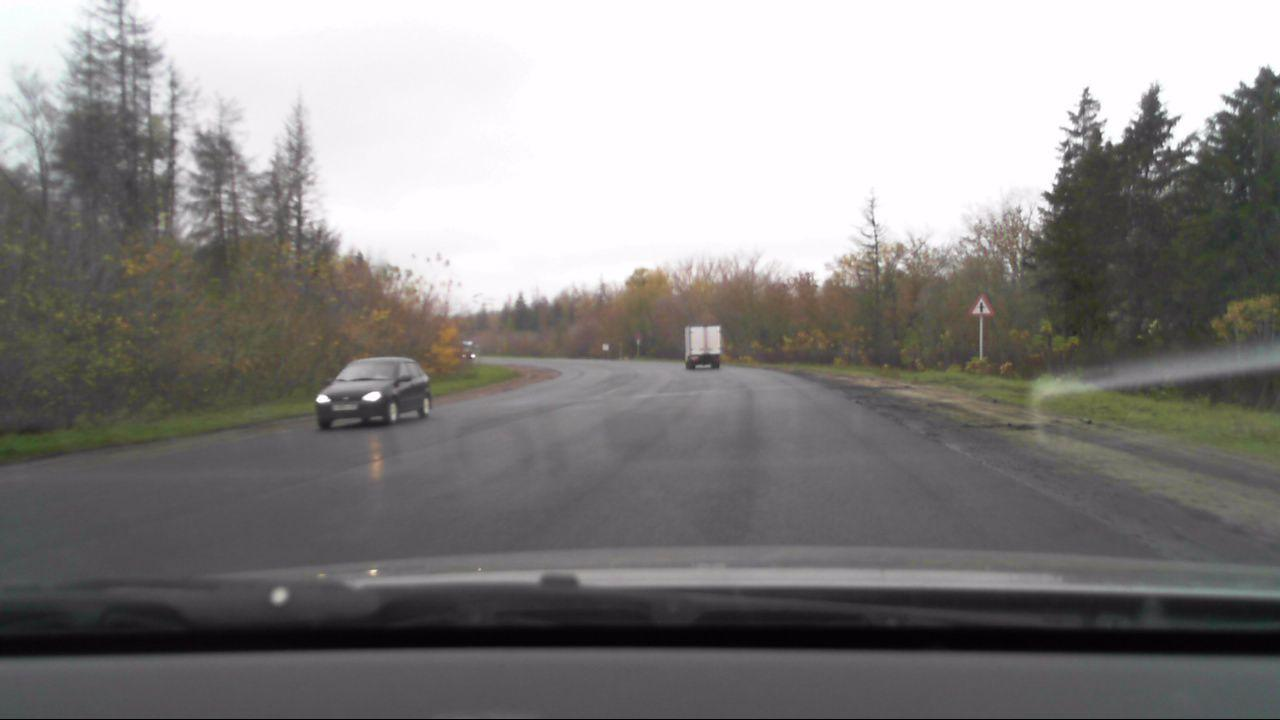2_3_1: (969, 295, 997, 316)
